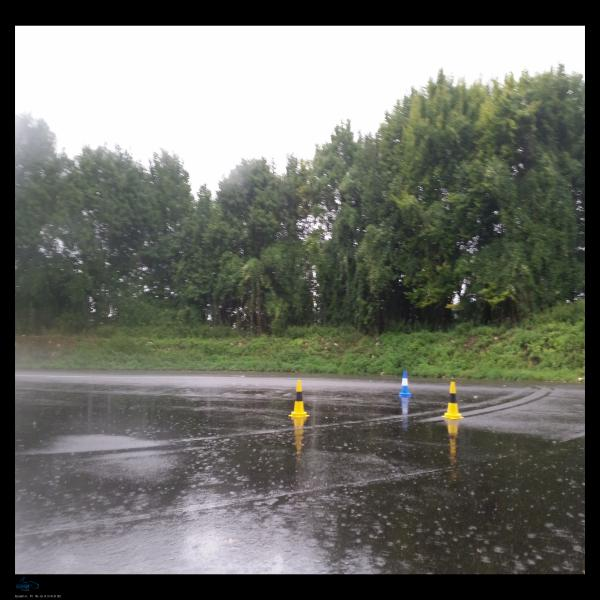blue_cone: (399, 370, 411, 397)
yellow_cone: (288, 380, 310, 418), (442, 382, 464, 419)
